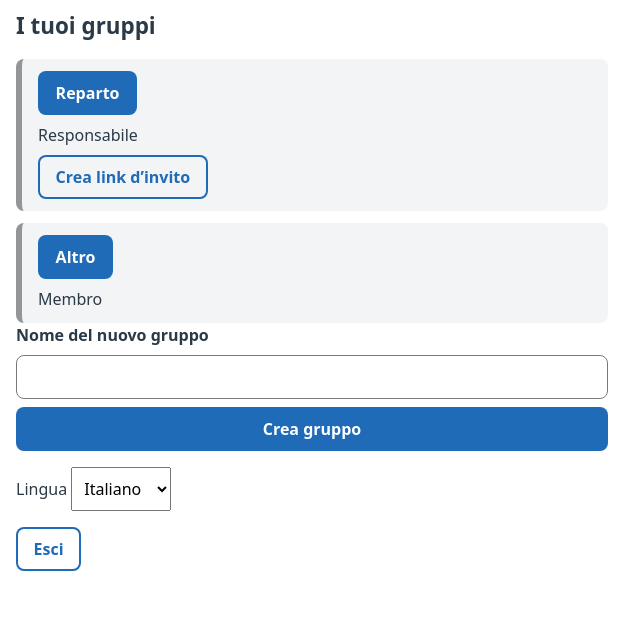
shows an alert when the group cannot be created
Type "Nuovo" into the field labelled "Nome del nuovo gruppo".
click(312, 377); type("Nuovo")  # box [16,355,608,399]
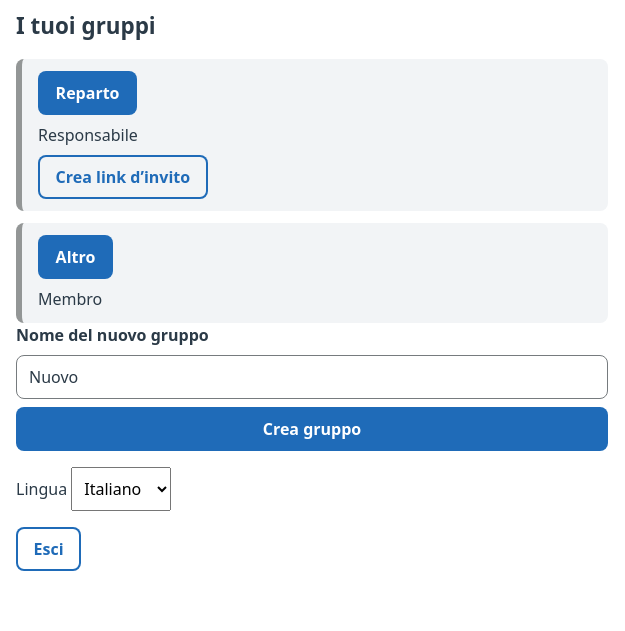
Click the button "Crea gruppo".
click(312, 429)  # box [16,407,608,451]
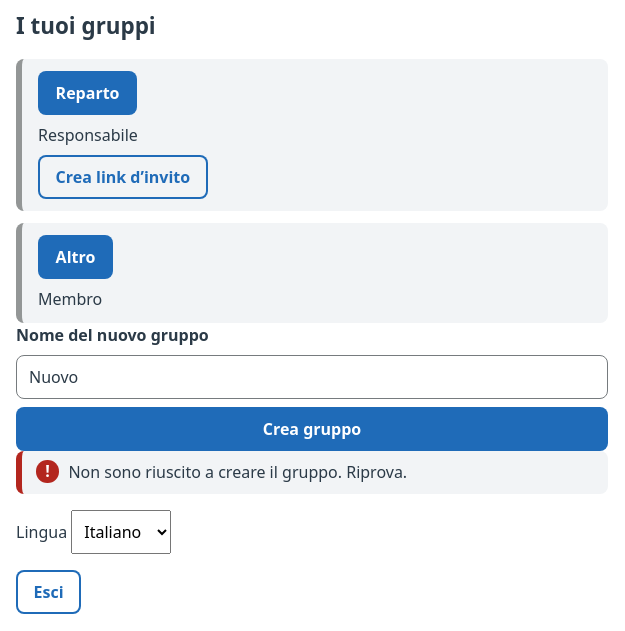
Now the message shows "Non sono riuscito a creare il gruppo", box [68,461,407,483]
